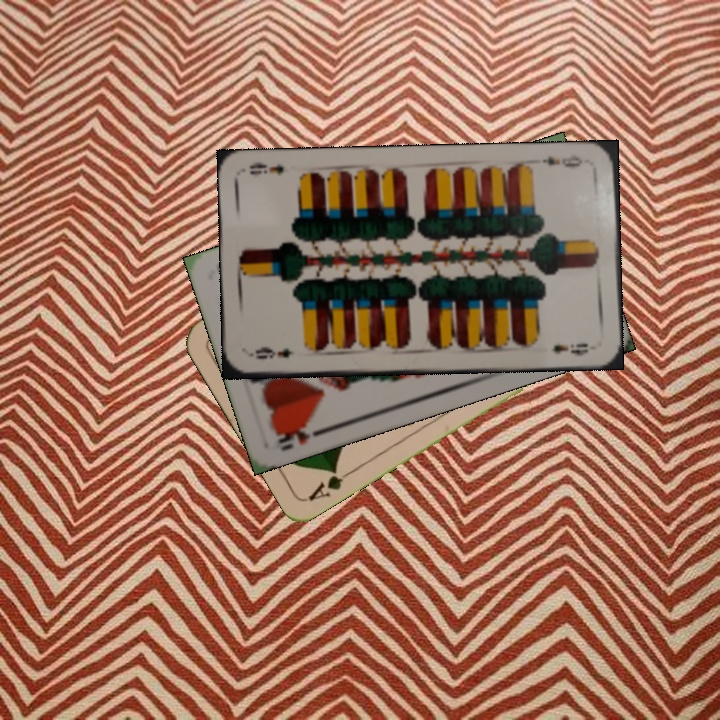E9: (532, 150, 585, 170), (247, 342, 294, 361)
GA: (304, 463, 357, 505)
HO: (272, 421, 329, 454)
